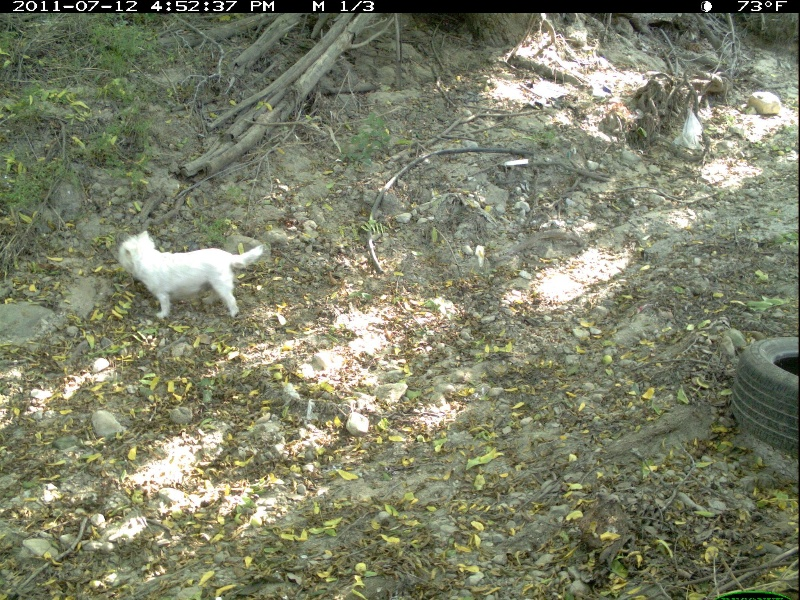dog: (112, 226, 267, 316)
